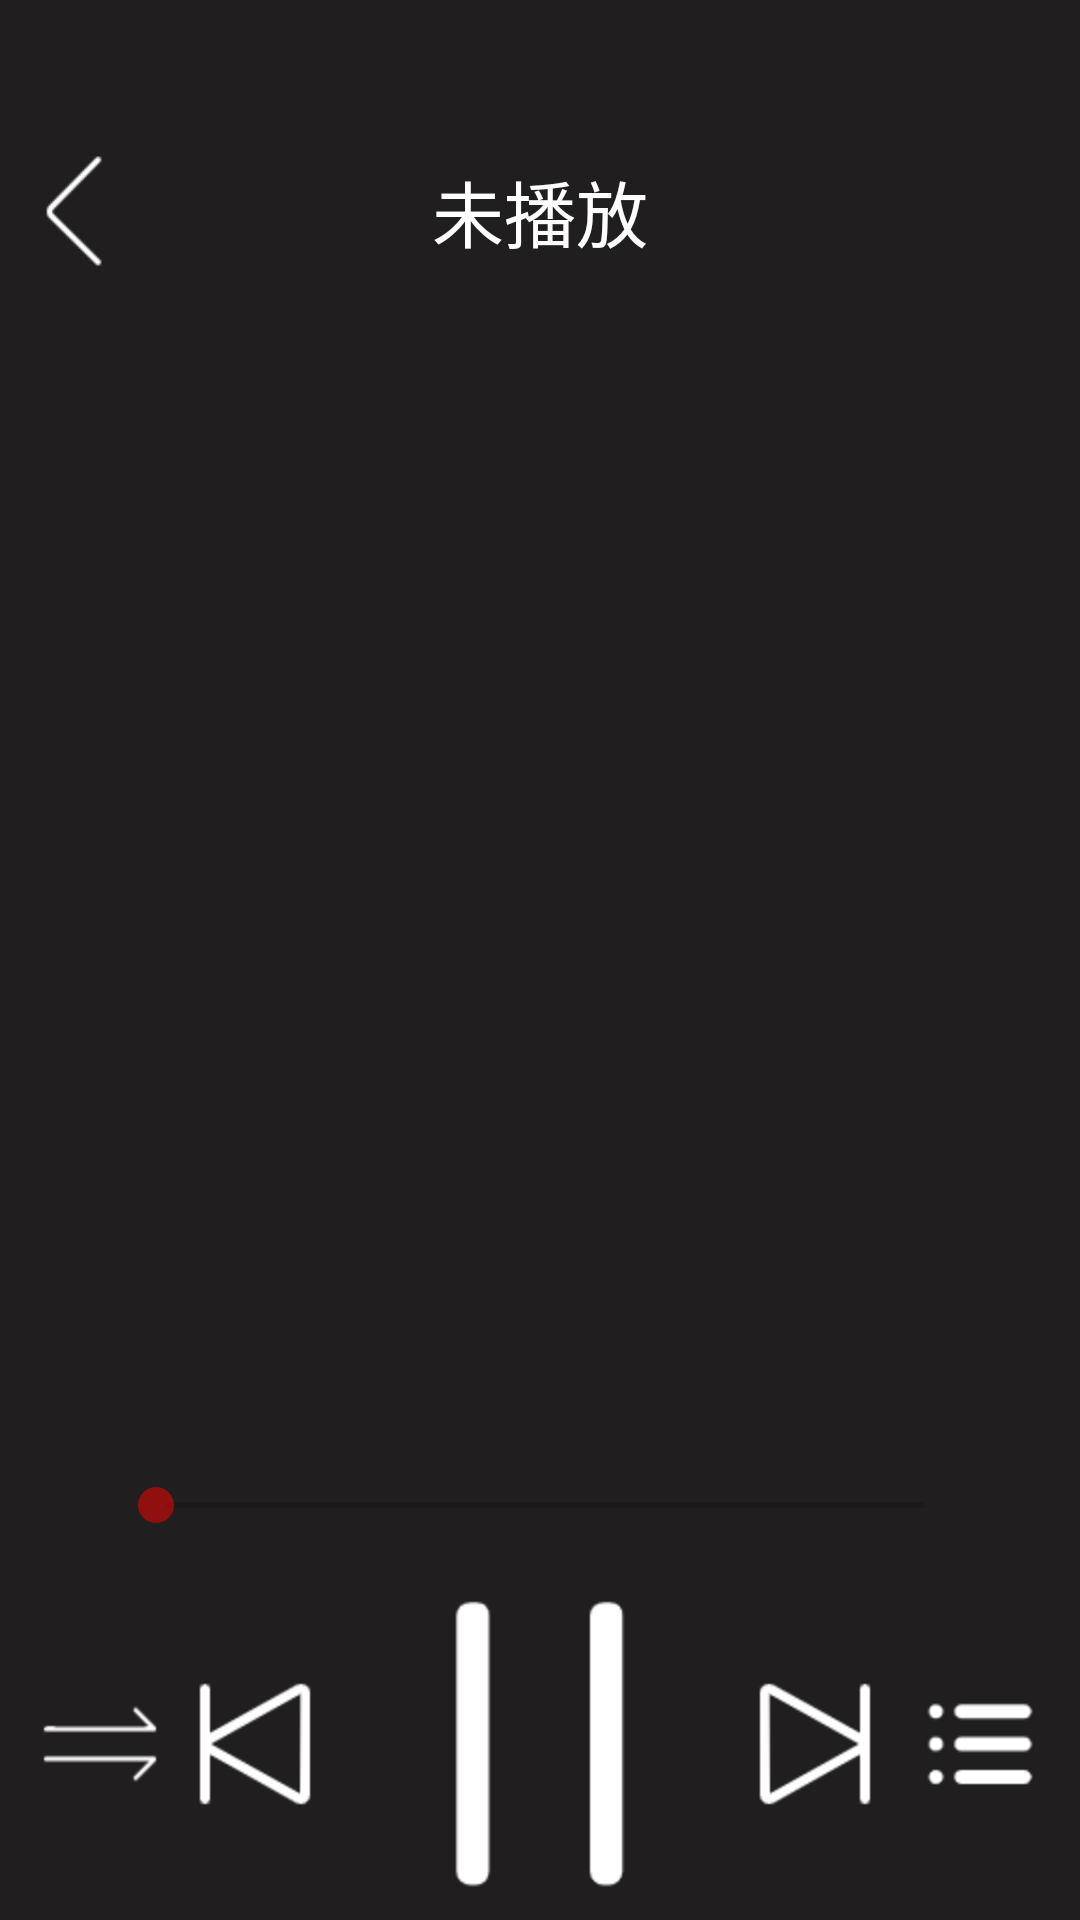

Icons on this 1080px×1920px Android screen, each with its box as (x1, y1, x2, y2):
back: (46, 156, 102, 266)
list: (927, 1703, 1033, 1785)
next: (759, 1683, 871, 1805)
previous: (199, 1683, 311, 1805)
